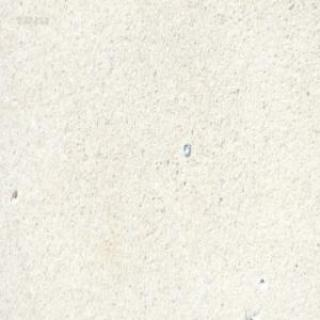Washertrack_idkeyframe: (182, 142, 190, 158)
